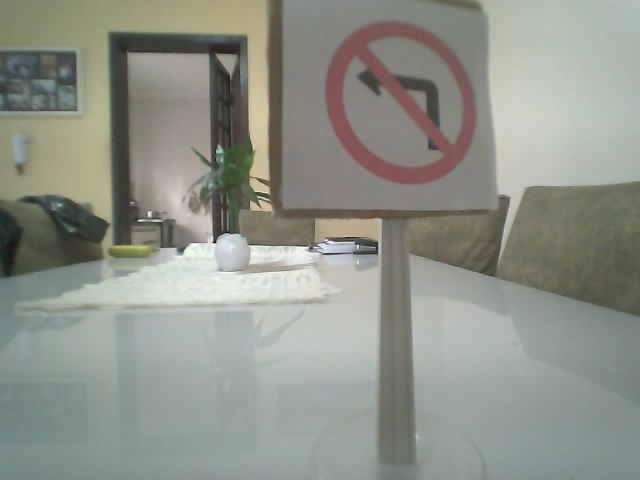R-4a_proibido-esquerda: (324, 21, 474, 183)
